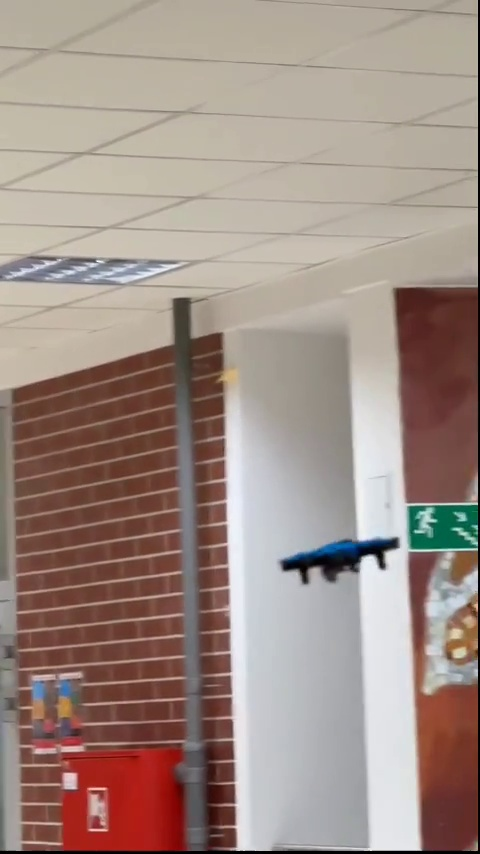drone: (285, 540, 402, 579)
